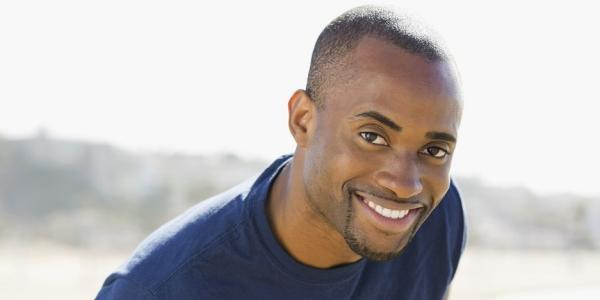Sober: (346, 53, 452, 241)
